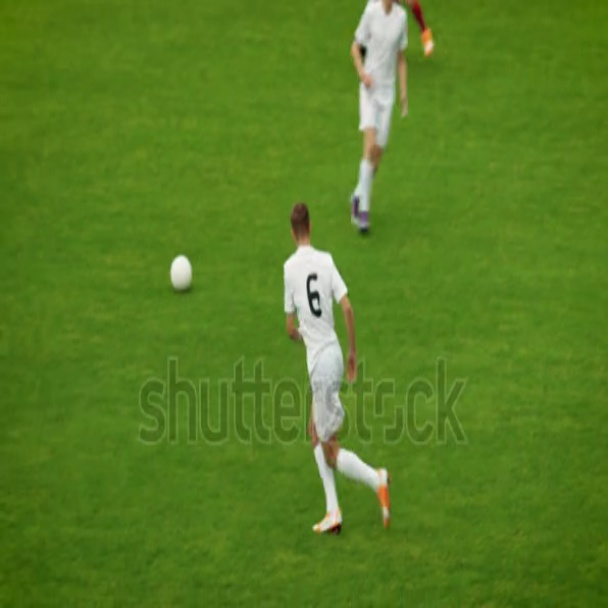ball: (173, 254, 191, 284)
